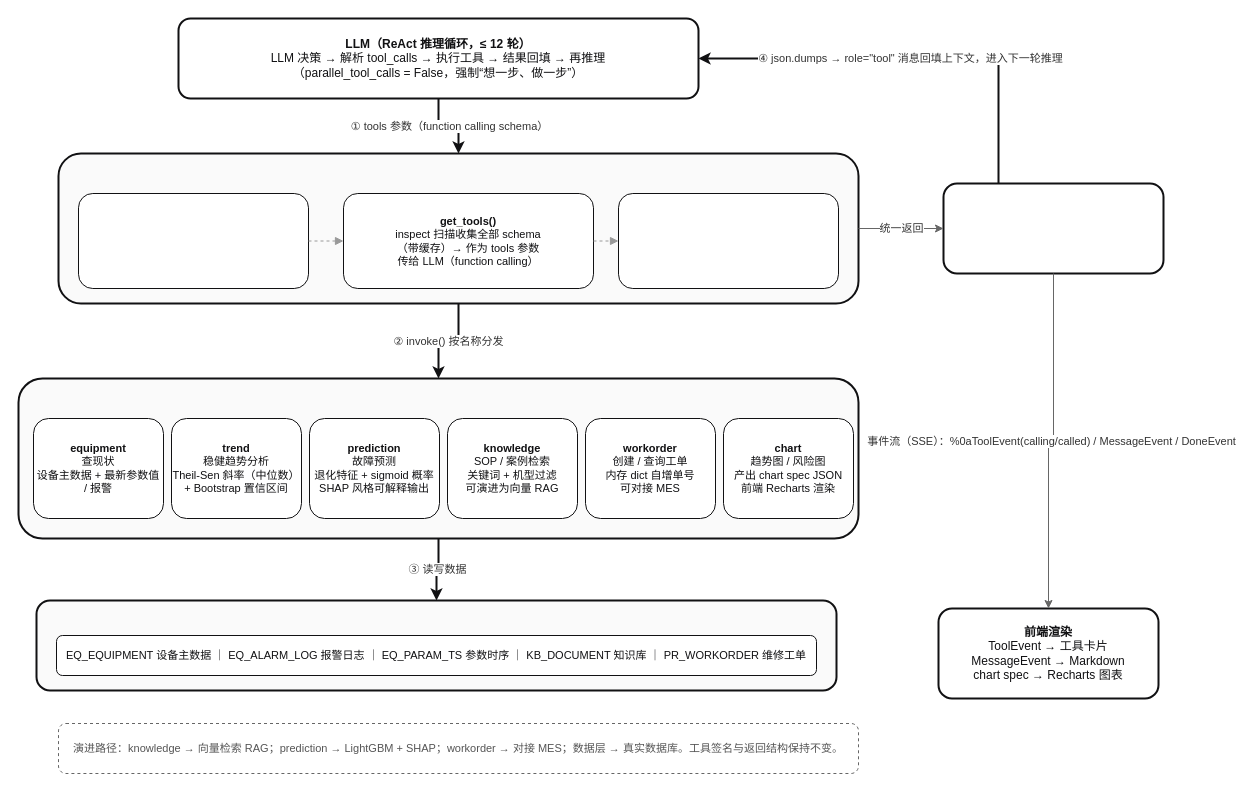
This 1252x791 diagram has some shape labels left out. Each missing label, with the box of its shape:
@tool 装饰器 把 name / description / JSON Schema 参数定义 挂到函数属性上注册: (78, 192, 308, 288)
invoke() 按工具名分发执行 _filter_parameters 用签名校验 丢弃 LLM 幻觉的多余参数: (618, 192, 838, 288)
ToolResult success / message / data 统一结果结构: (942, 182, 1164, 274)
六个工具集（app/domain/services/tools/）—— 统一返回 ToolResult: (17, 377, 859, 539)
工具机制层 —— BaseTool（app/domain/services/tools/base.py）: (57, 152, 859, 304)
数据层 —— app/infrastructure/data/sample.py（换真实库只改这一层）: (35, 599, 837, 691)
